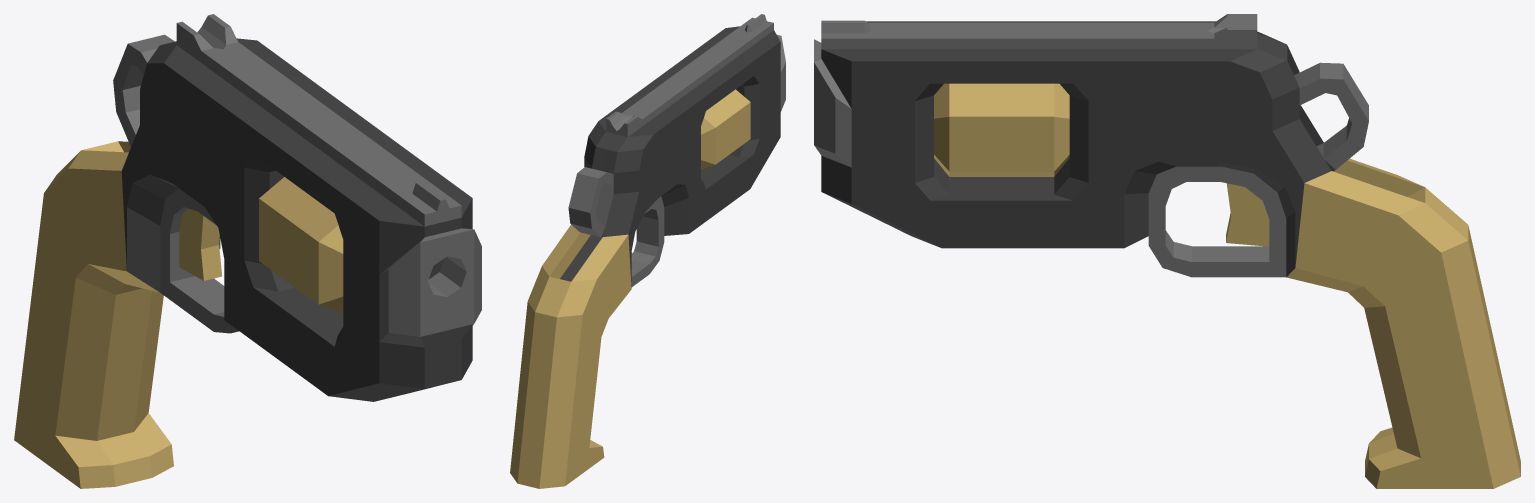
The model's file is SnubRevolver.fbx.
The picture shows the model from 3 angles, left to right: view 1: azimuth 30°, elevation 25°; view 2: azimuth 150°, elevation 25°; view 3: azimuth 270°, elevation 25°; orthographic projection. The views are drawn at different scales.
Parts seen in each view (by area): view 1: SnubRevolver; view 2: SnubRevolver; view 3: SnubRevolver.
Part boxes in pixels (bbox=[...]): SnubRevolver: bbox=[14, 14, 481, 488]; SnubRevolver: bbox=[510, 14, 785, 488]; SnubRevolver: bbox=[814, 14, 1520, 488].
Size of the model in its own units: 35.4 by 166 by 238.
